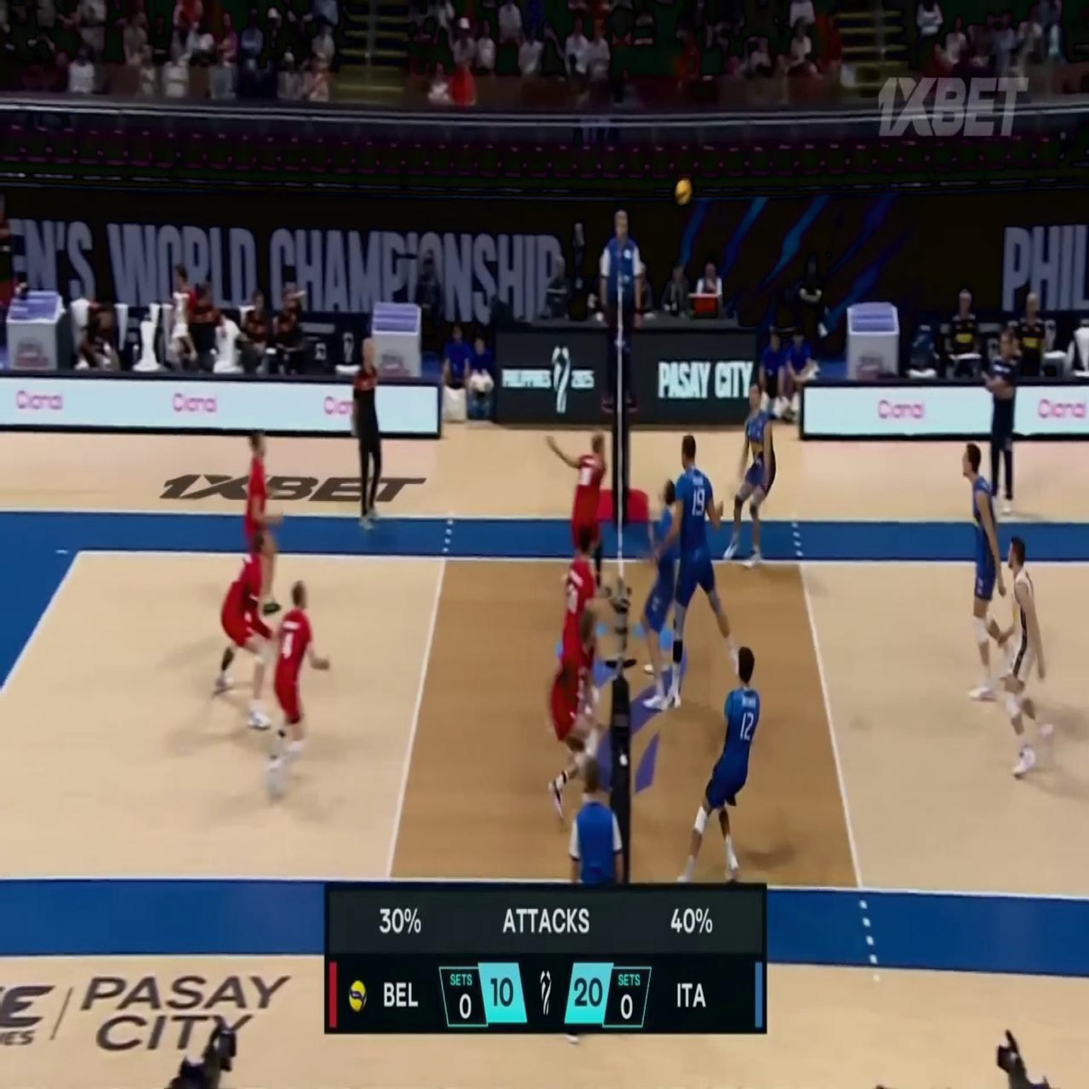ball: (674, 179, 690, 207)
